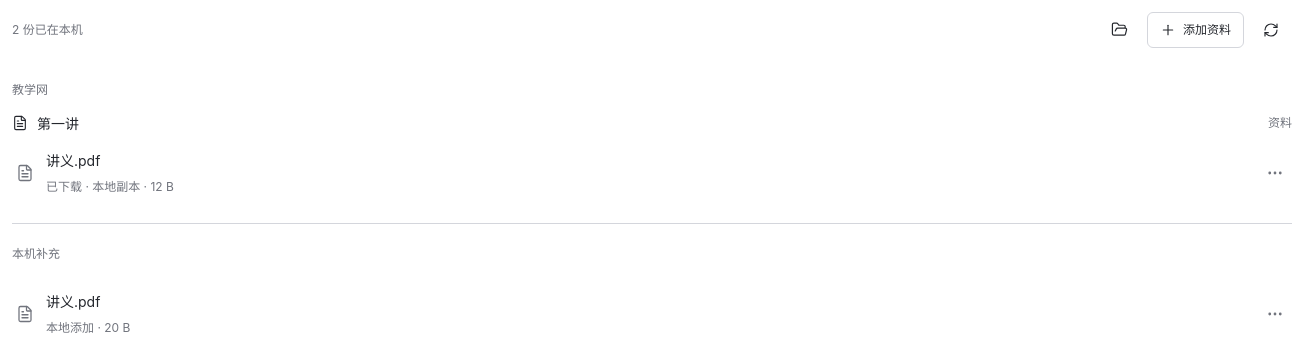
Test case: merges only the matching download copy and restores download after removing that copy
Check: the text "已下载 · 本地副本 · 12 B" is shown, box [46,177,174,197]
Check: the button "讲义.pdf 本地添加 · 20 B" is enabled, box [12,286,1246,342]
Step 1. Click the 1st heading named "讲义.pdf 的更多操作" → (1275, 173), box [1266,164,1284,182]
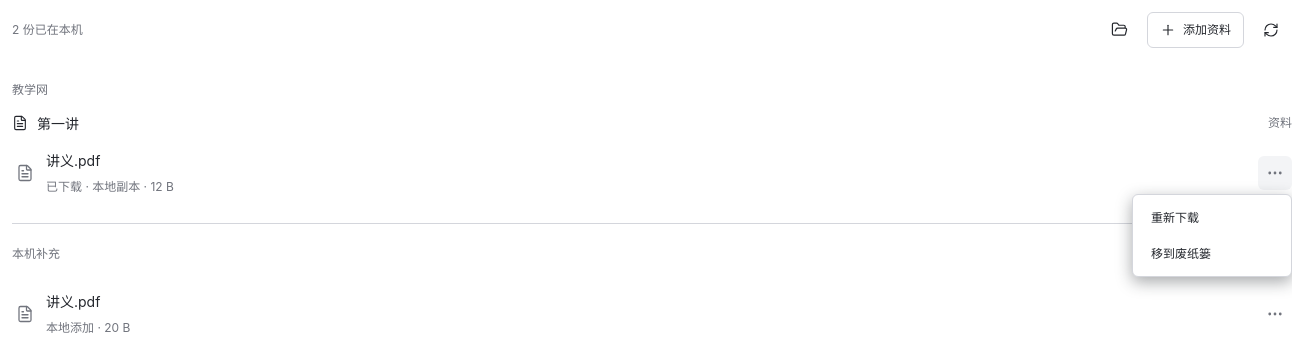
Step 2. Click the button with aria-label "删除 讲义.pdf" → (1212, 254), box [1138,236,1286,271]
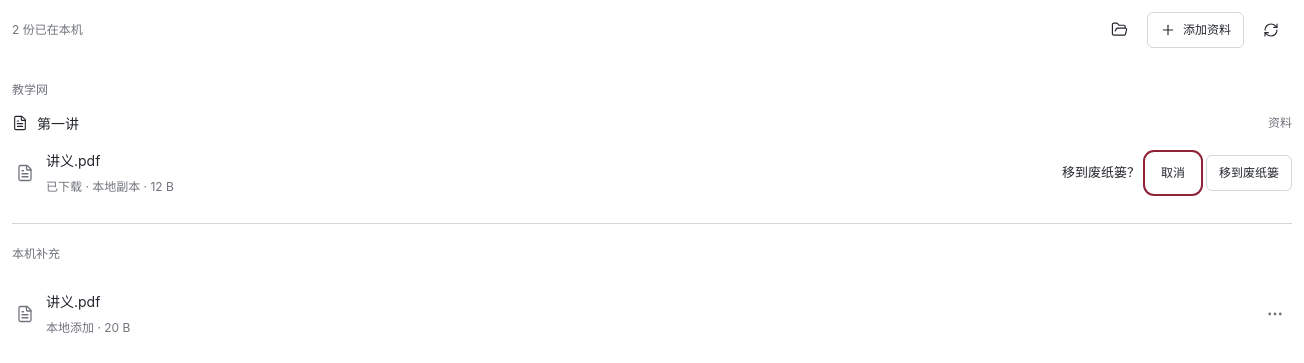
Step 3. Click the button "移到废纸篓" → (1249, 173), box [1206,155,1292,191]
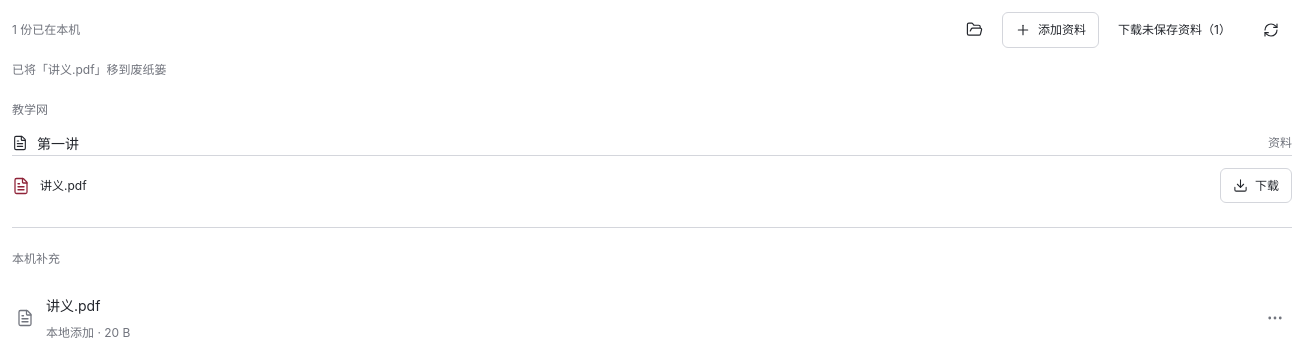
Check: the button "讲义.pdf 本地添加 · 20 B" is shown, box [12,290,1246,346]
Check: the button "下载" is shown, box [1220,168,1292,204]
